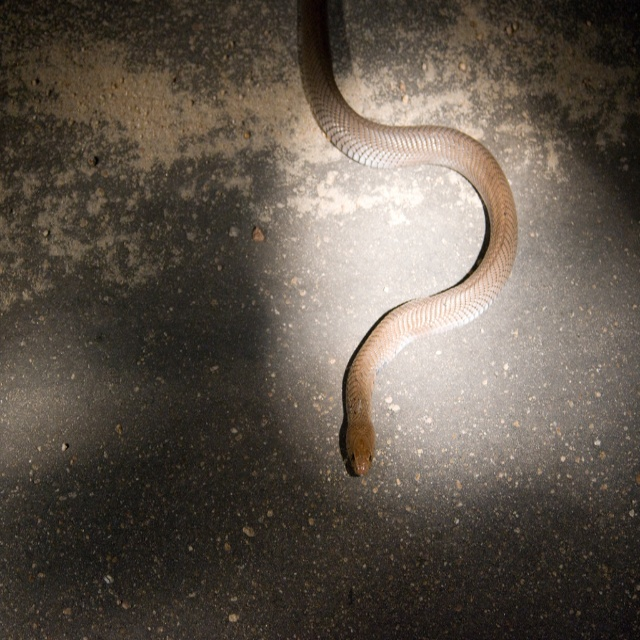Snake: (298, 0, 518, 475)
